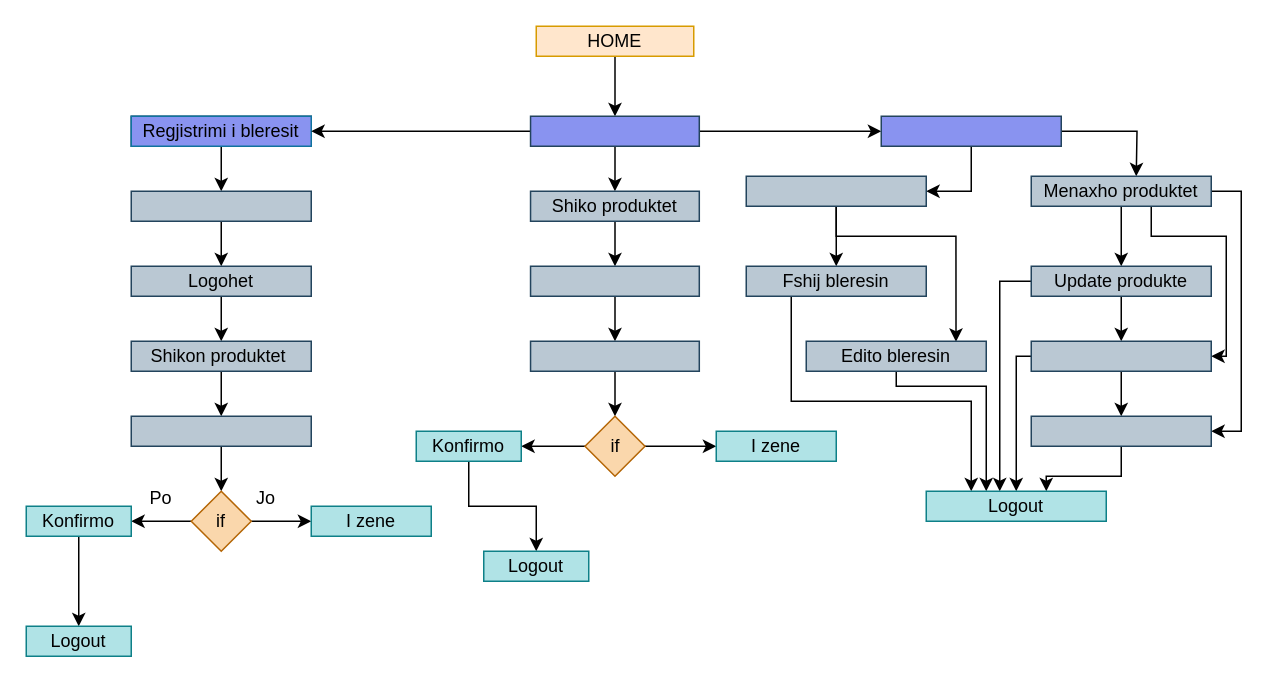
Some shapes in this 1280 by 683 pixel diagram are drawn without their labels. The centre of each missing label's shape, as x and y in pixels:
"Fshij produkte" belongs at (1120,355).
"Konfirmimi per logim" belongs at (220,205).
"Logimi i menaxherit" belongs at (970,130).
"Logimi i punetoreve" belongs at (614,130).
"Menaxho bleresin" belongs at (835,190).
"Porosit produktet" belongs at (220,430).
"Rezervo produktet" belongs at (614,355).
"Shto produkte" belongs at (1120,430).
"Shto produktet" belongs at (614,280).
